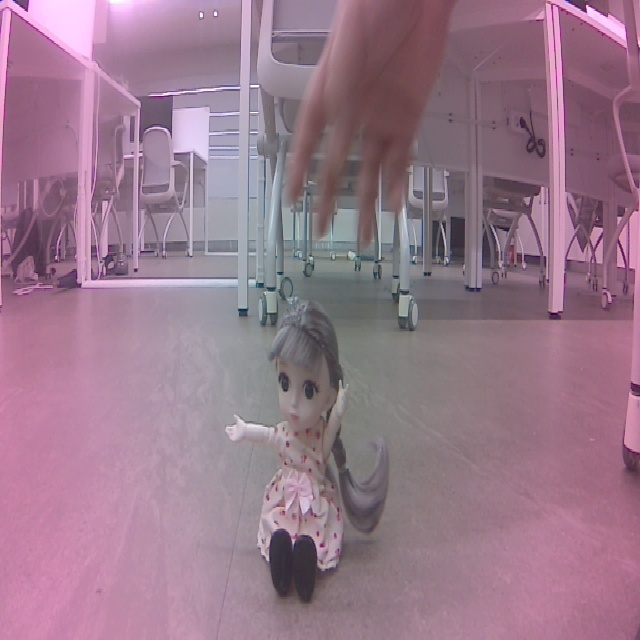장애물: (218, 298, 400, 610)
